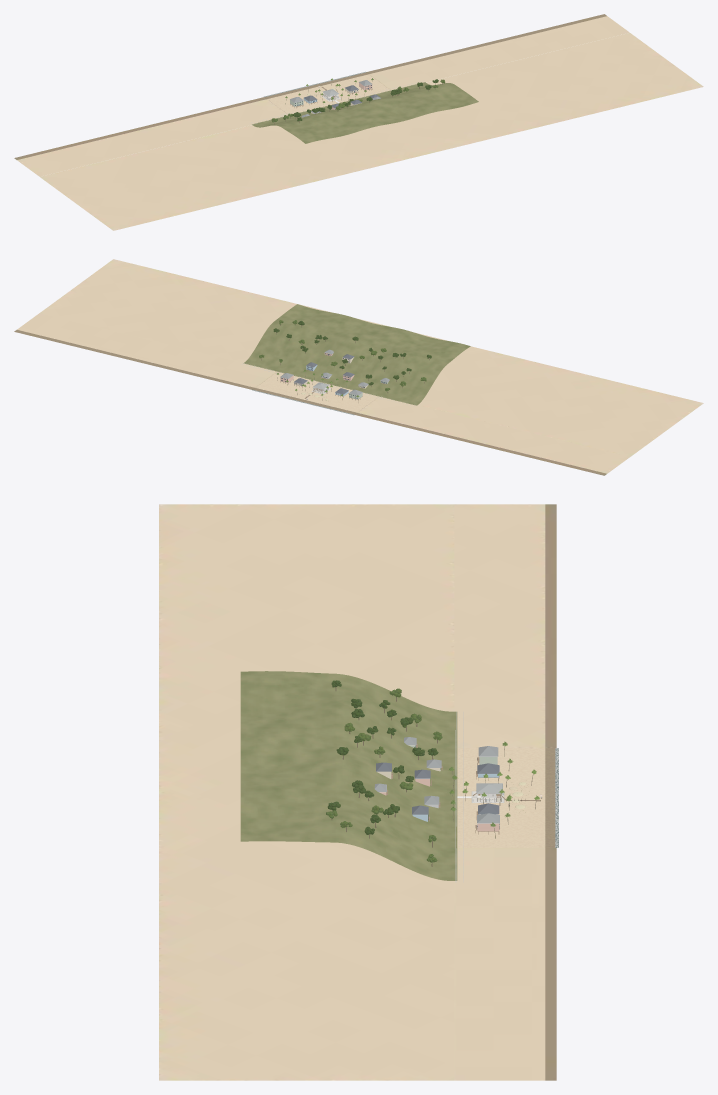
The model's file is model_mobile.glb.
3 renders of one model, top to bottom at view 1: azimuth 30°, elevation 25°; view 2: azimuth 150°, elevation 25°; view 3: azimuth 270°, elevation 25°, orthographic. The views are drawn at different scales.
Visible parts, largest first — view 1: G_SandFar, G_Hill, G_SandNear, G_EnvTrees, G_EnvHouses; view 2: G_SandFar, G_Hill, G_SandNear, G_EnvTrees, G_EnvHouses; view 3: G_SandFar, G_Hill, G_SandNear, G_EnvTrees, G_EnvHouses.
Boxes of the visible parts, bbox=[...] form: G_SandFar: bbox=[14, 14, 703, 230]; G_Hill: bbox=[252, 82, 478, 143]; G_SandNear: bbox=[264, 71, 390, 114]; G_EnvTrees: bbox=[251, 78, 445, 124]; G_EnvHouses: bbox=[290, 80, 380, 117]; G_SandFar: bbox=[14, 259, 703, 475]; G_Hill: bbox=[243, 304, 470, 405]; G_SandNear: bbox=[252, 371, 378, 415]; G_EnvTrees: bbox=[242, 320, 431, 402]; G_EnvHouses: bbox=[280, 349, 389, 400]; G_SandFar: bbox=[159, 504, 556, 1080]; G_Hill: bbox=[240, 671, 457, 880]; G_SandNear: bbox=[457, 748, 558, 847]; G_EnvTrees: bbox=[326, 680, 513, 882]; G_EnvHouses: bbox=[374, 737, 499, 834].
Size of what is drawn, in the model's own units: 914 by 39.36 by 268.
16 materials, 15 textured.
